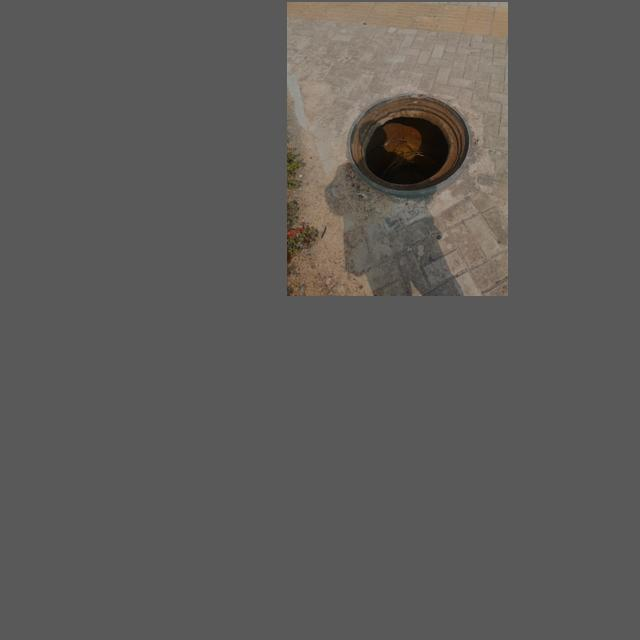lose: (334, 86, 476, 195)
